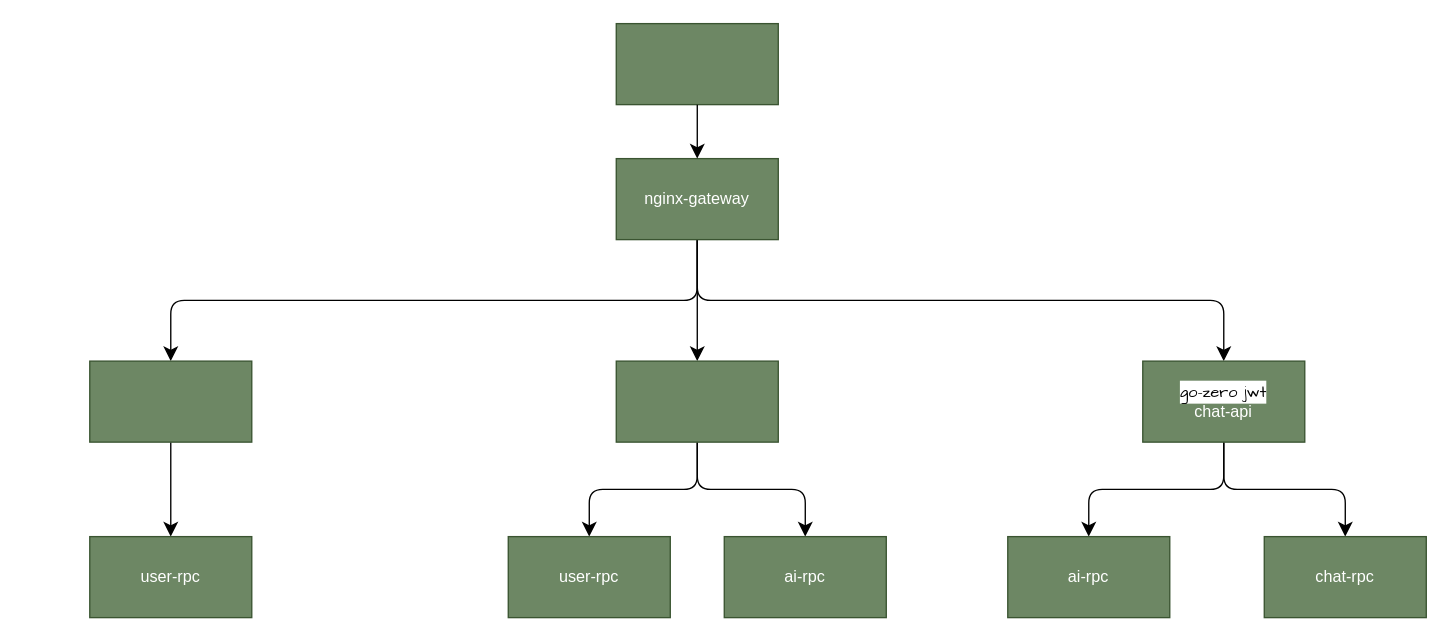
This 1450x641 diagram has some shape labels left out. Here are the shapes that lost their labels. From the top down, the centre of each, then its label:
At point 696,63: "前端".
At point 170,401: "go-zero jwt user-api".
At point 696,401: "go-zero jwt ai-api".
